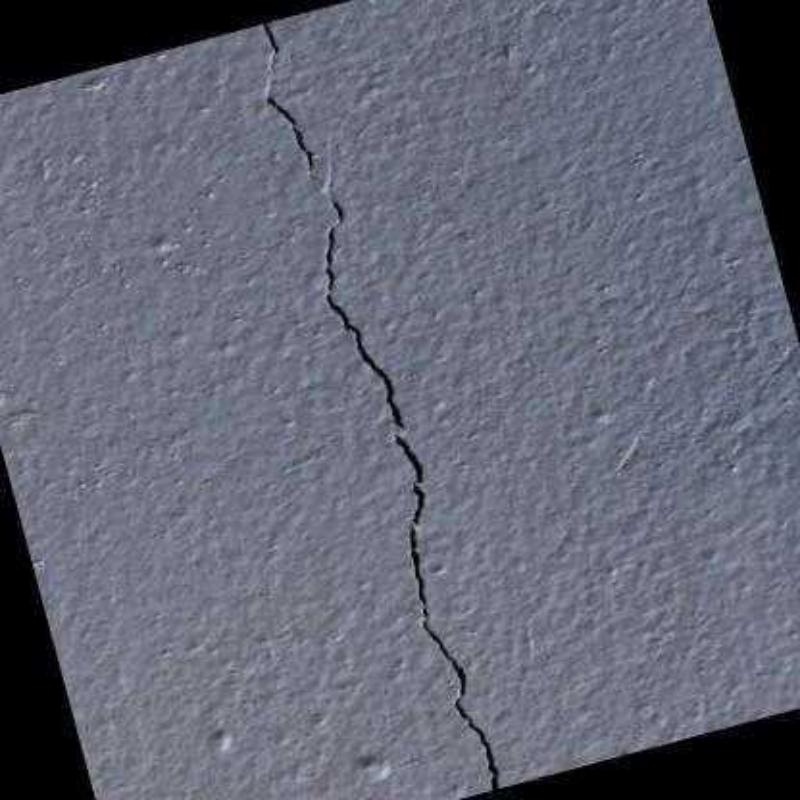crack: (259, 22, 498, 790)
